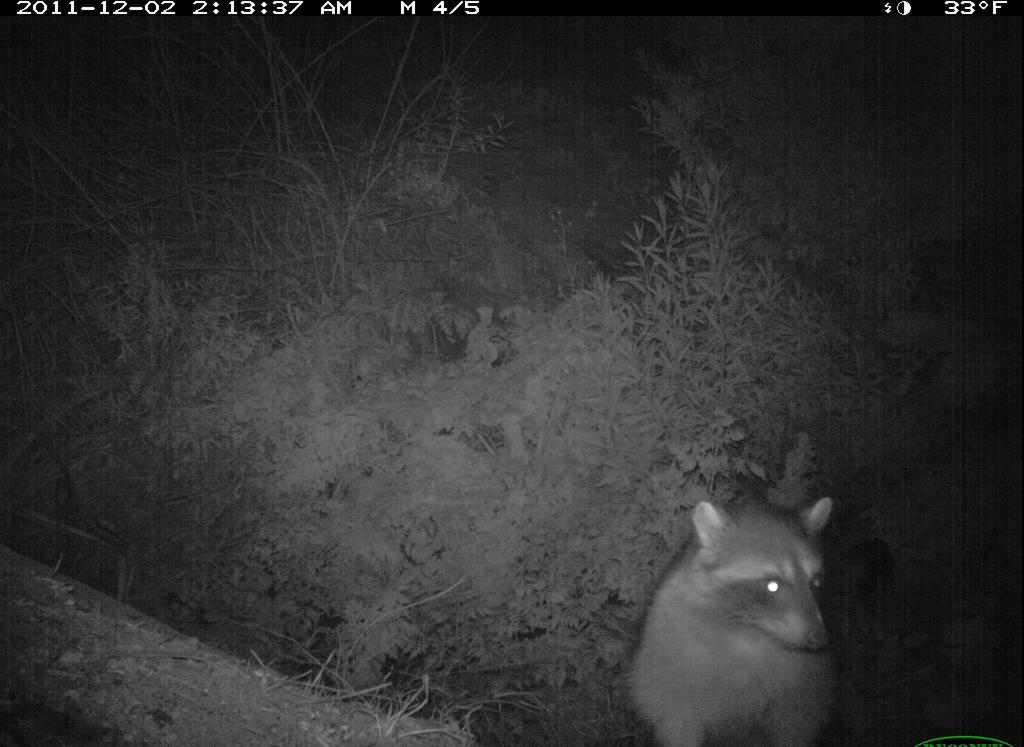raccoon: (606, 497, 857, 747)
